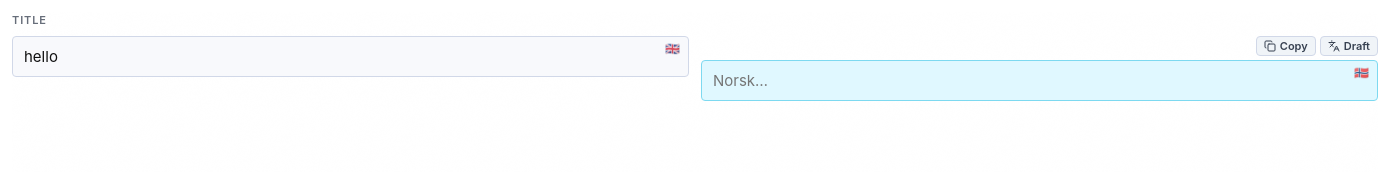
Scenario: <DualField> › drafts a translation into the empty secondary when configured
# Appears asynchronously once the availability probe resolves.
Click the button "Draft" at (1349, 46), box [1320, 36, 1378, 56]
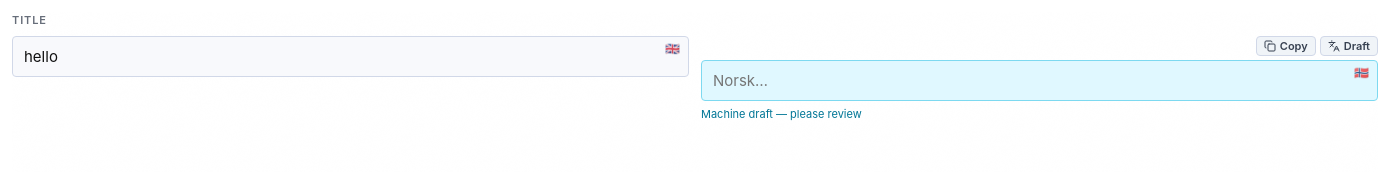
expect the text "Machine draft — please review" is shown: met, box [701, 107, 862, 121]
